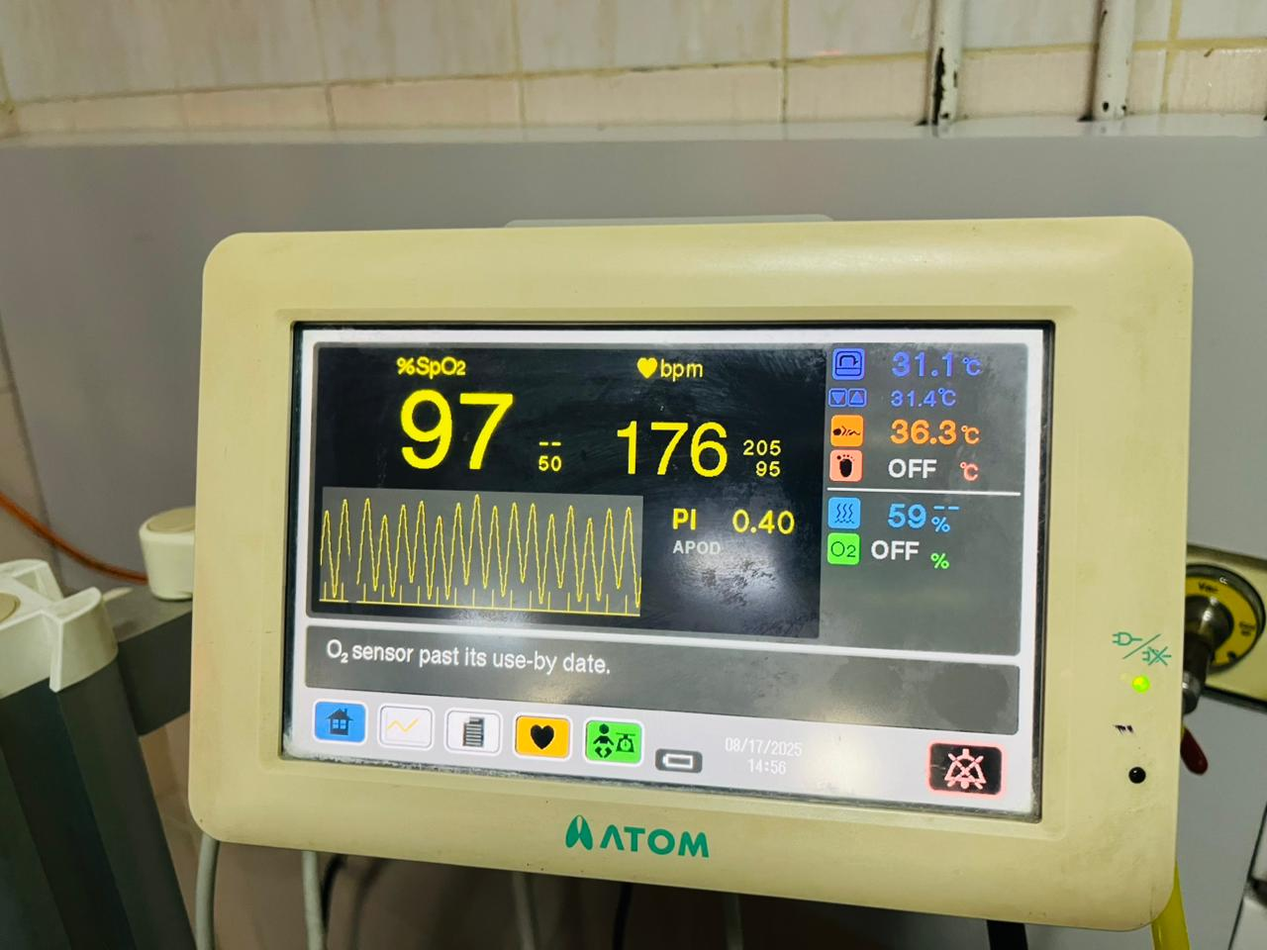air_temp_value: (873, 342, 966, 392)
humidity_value: (875, 490, 929, 535)
skin_temp_value: (881, 408, 959, 454)
spo2_value: (384, 381, 525, 476), (601, 409, 734, 487)
